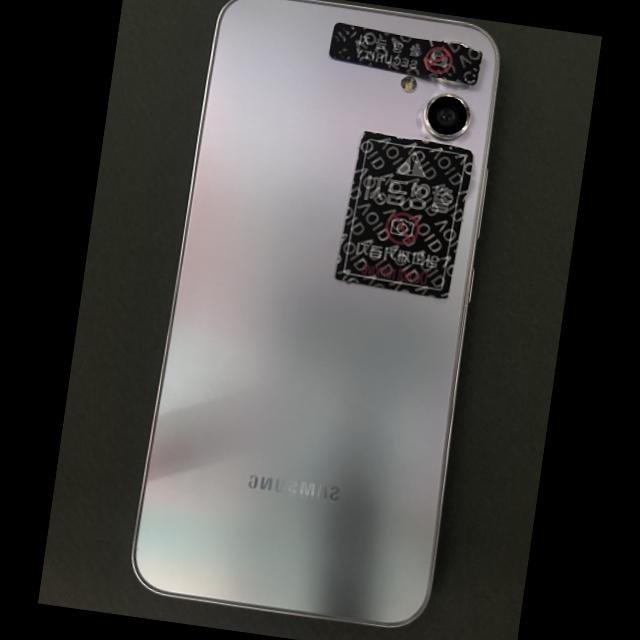lens: (424, 93, 469, 139), (445, 41, 470, 49)
phone: (132, 0, 500, 629)
sticker: (334, 130, 474, 300), (329, 23, 482, 85)
